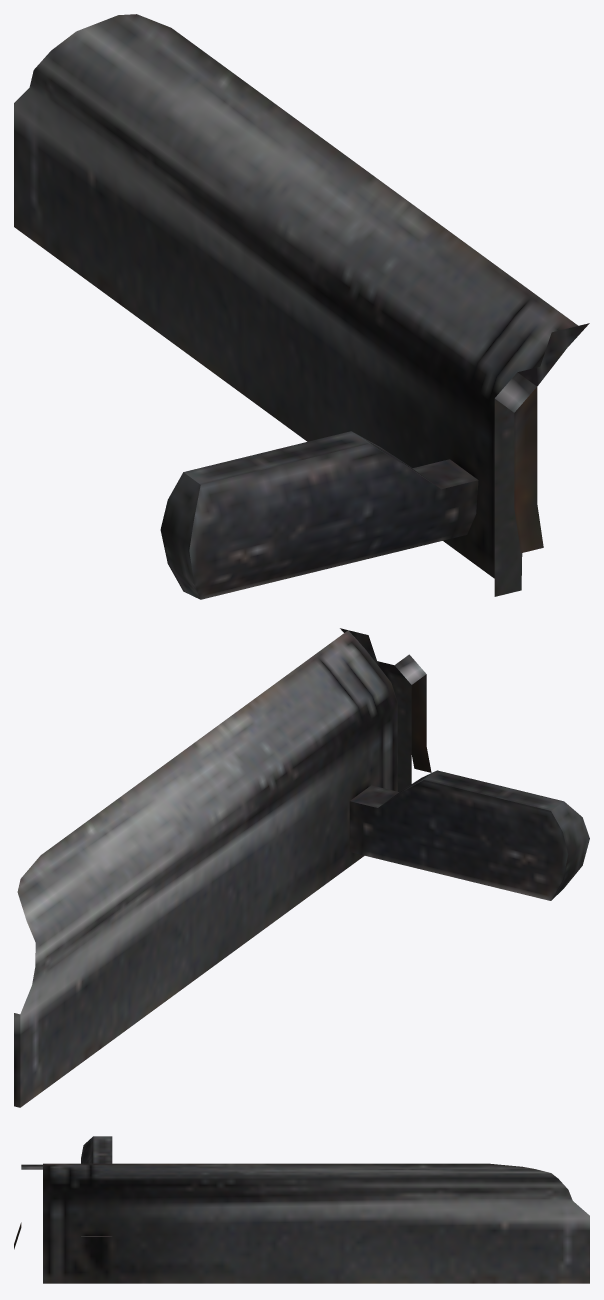
The model's file is zatvor.obj.
3 renders of one model, top to bottom at view 1: azimuth 30°, elevation 25°; view 2: azimuth 150°, elevation 25°; view 3: azimuth 270°, elevation 25°, orthographic. The views are drawn at different scales.
Parts seen in each view (by area): view 1: wpn34_ak; view 2: wpn34_ak; view 3: wpn34_ak.
Boxes of the visible parts, <box> form: wpn34_ak: <box>14,14,589,599</box>; wpn34_ak: <box>14,628,589,1107</box>; wpn34_ak: <box>14,1136,589,1283</box>.
Bounding box in the file's own units: 0.0353 × 0.0231 × 0.0878.
1 material, 1 textured.
